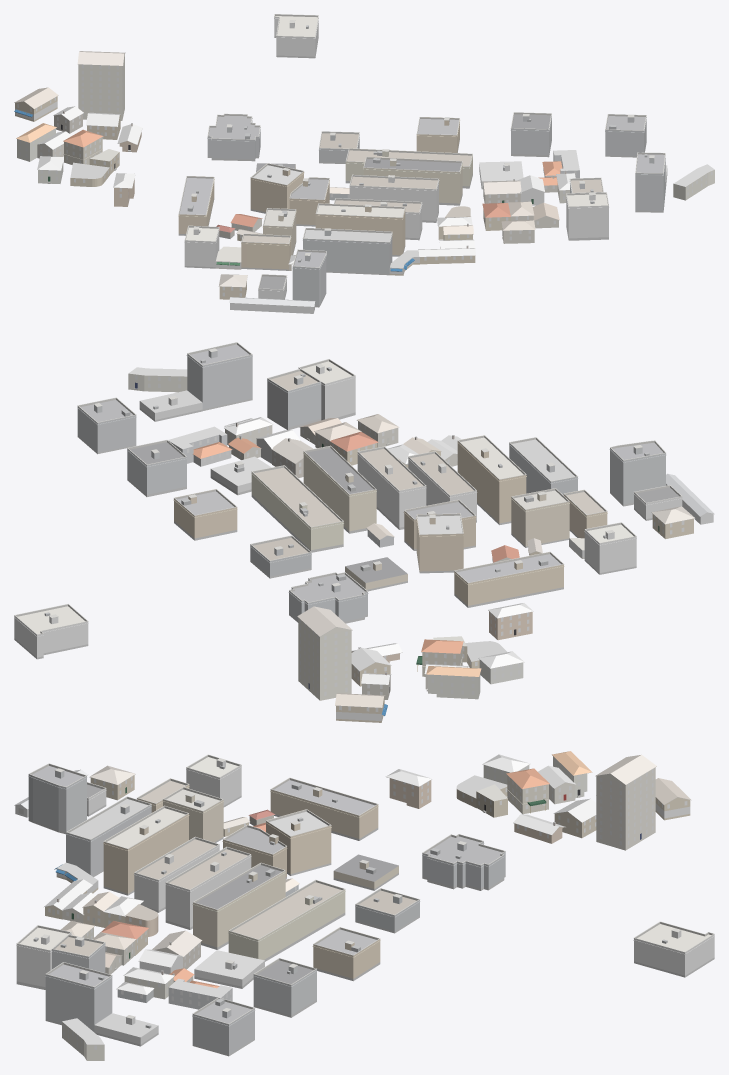
The model's file is bld_1_0.dae.
3 views of the same model, one above another, from view 1: azimuth 30°, elevation 25°; view 2: azimuth 150°, elevation 25°; view 3: azimuth 270°, elevation 25° (orthographic). The views are drawn at different scales.
Parts seen in each view (by area): view 1: blda1929; view 2: blda1929; view 3: blda1929.
Part boxes in pixels (bbox=[...]): blda1929: bbox=[14, 14, 714, 313]; blda1929: bbox=[14, 342, 714, 722]; blda1929: bbox=[14, 751, 714, 1060].
Size of the model in its own units: 264 by 266 by 32.02.
